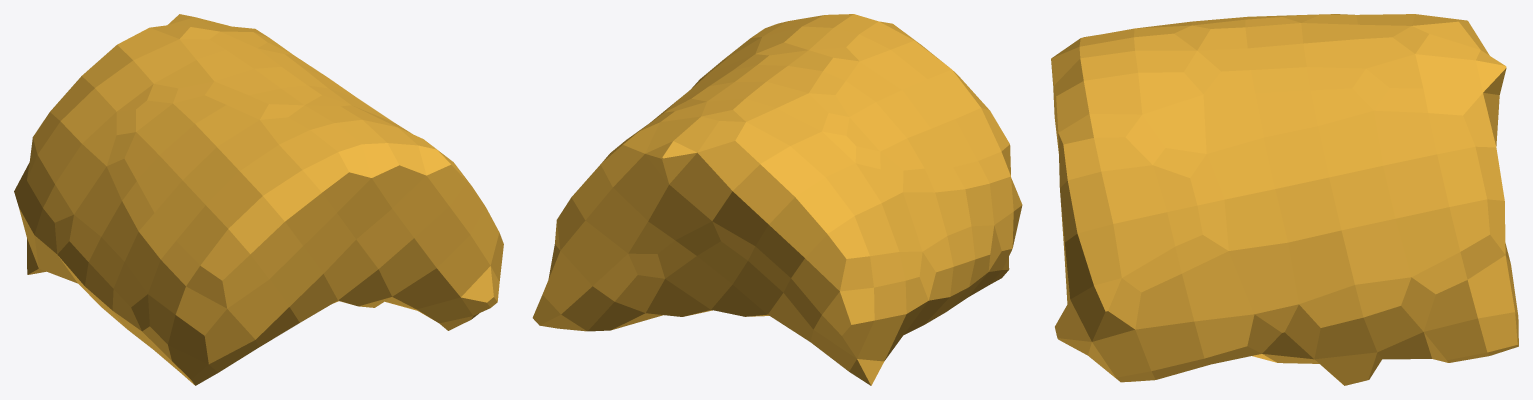
The model's file is corn_piece.glb.
3 views of the same model, side by side, from view 1: azimuth 30°, elevation 25°; view 2: azimuth 150°, elevation 25°; view 3: azimuth 270°, elevation 25° (orthographic). The views are drawn at different scales.
Parts seen in each view (by area): view 1: 玉米粒較高面數.001; view 2: 玉米粒較高面數.001; view 3: 玉米粒較高面數.001.
Part boxes in pixels (box(x1,y1,x2,y2)): 玉米粒較高面數.001: box(14, 14, 503, 385); 玉米粒較高面數.001: box(532, 14, 1022, 385); 玉米粒較高面數.001: box(1051, 14, 1518, 385).
Size of the model in its own units: 0.9178 by 0.6144 by 0.9425.
